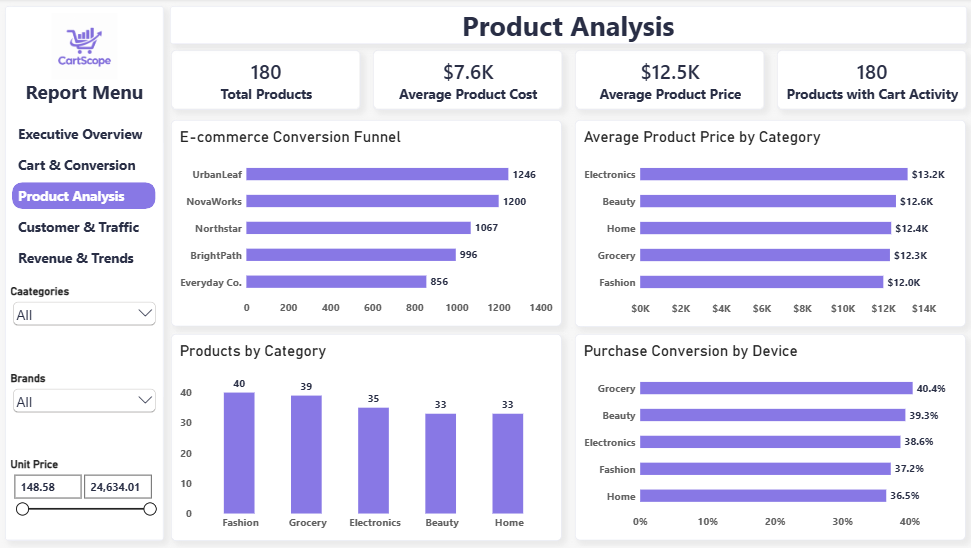

Layout of this report page (visuals, bound fields, positions):
{"tool":"powerbi","page":{"name":"Product Analysis","canvas":[1920,1080],"ordinal":2},"visuals":[{"type":"cardVisual","title":"Total Revenue","fields":{"Data":["_Measures.Total Products"]},"box":[341.6,101.4,372,116.8],"z":0},{"type":"cardVisual","title":"Total Revenue","fields":{"Data":["_Measures.Average Product Cost"]},"box":[738.1,102.2,372,116.8],"z":1000},{"type":"cardVisual","title":"Total Revenue","fields":{"Data":["_Measures.Average Product Price"]},"box":[1134.6,102.2,372,116.8],"z":3000},{"type":"cardVisual","title":"Total Revenue","fields":{"Data":["_Measures.Products with Cart Activity"]},"box":[1531.1,102.2,372,116.8],"z":5000},{"type":"clusteredBarChart","title":"E-commerce Conversion Funnel","fields":{"Category":["products.brand"],"Y":["_Measures.Product Cart Activity"]},"box":[341.6,239,767,405],"z":6000},{"type":"clusteredBarChart","title":"Average Product Price by Category","fields":{"Category":["products.category"],"Y":["_Measures.Average Product Price"]},"box":[1135.1,239,767,405.6],"z":7000},{"type":"clusteredBarChart","title":"Purchase Conversion by Device","fields":{"Category":["products.category"],"Y":["_Measures.Average Product Profit Margin"]},"box":[1135,659,767,405],"z":8000},{"type":"clusteredColumnChart","title":"Products by Category","fields":{"Category":["products.category"],"Y":["_Measures.Total Products"]},"box":[341.6,659,767,405.6],"z":9000},{"type":"shape","box":[15,15,312,1050],"z":10000},{"type":"shape","box":[340,15,1565,75],"z":11000},{"type":"textbox","box":[342.5,15,1560,75],"z":12000},{"type":"pageNavigator","box":[30,240,282,300],"z":13000},{"type":"image","box":[16,30,312,130],"z":14000},{"type":"textbox","box":[16,160,312,58],"z":15000},{"type":"slicer","title":"Unit Price","fields":{"Values":["products.unit_price"]},"box":[22.2,897.8,300,167.5],"z":18000},{"type":"slicer","title":"Caategories","fields":{"Values":["products.category"]},"box":[22.2,557.8,300,120],"z":18001},{"type":"slicer","title":"Brands","fields":{"Values":["products.brand"]},"box":[22.2,727.8,300,120],"z":18002}]}

Visuals, with their boxes in screenshot pixels (x1, y1, x2, y2), scaled from the page's 1920x1080 canvas onto the 971x548 screenshot:
"Total Revenue" cardVisual: {"x1": 173, "y1": 51, "x2": 361, "y2": 111}
"Total Revenue" cardVisual: {"x1": 373, "y1": 52, "x2": 561, "y2": 111}
"Total Revenue" cardVisual: {"x1": 574, "y1": 52, "x2": 762, "y2": 111}
"Total Revenue" cardVisual: {"x1": 774, "y1": 52, "x2": 962, "y2": 111}
"E-commerce Conversion Funnel" clusteredBarChart: {"x1": 173, "y1": 121, "x2": 561, "y2": 327}
"Average Product Price by Category" clusteredBarChart: {"x1": 574, "y1": 121, "x2": 962, "y2": 327}
"Purchase Conversion by Device" clusteredBarChart: {"x1": 574, "y1": 334, "x2": 962, "y2": 540}
"Products by Category" clusteredColumnChart: {"x1": 173, "y1": 334, "x2": 561, "y2": 540}
shape: {"x1": 8, "y1": 8, "x2": 165, "y2": 540}
shape: {"x1": 172, "y1": 8, "x2": 963, "y2": 46}
textbox: {"x1": 173, "y1": 8, "x2": 962, "y2": 46}
pageNavigator: {"x1": 15, "y1": 122, "x2": 158, "y2": 274}
image: {"x1": 8, "y1": 15, "x2": 166, "y2": 81}
textbox: {"x1": 8, "y1": 81, "x2": 166, "y2": 111}
"Unit Price" slicer: {"x1": 11, "y1": 456, "x2": 163, "y2": 541}
"Caategories" slicer: {"x1": 11, "y1": 283, "x2": 163, "y2": 344}
"Brands" slicer: {"x1": 11, "y1": 369, "x2": 163, "y2": 430}
